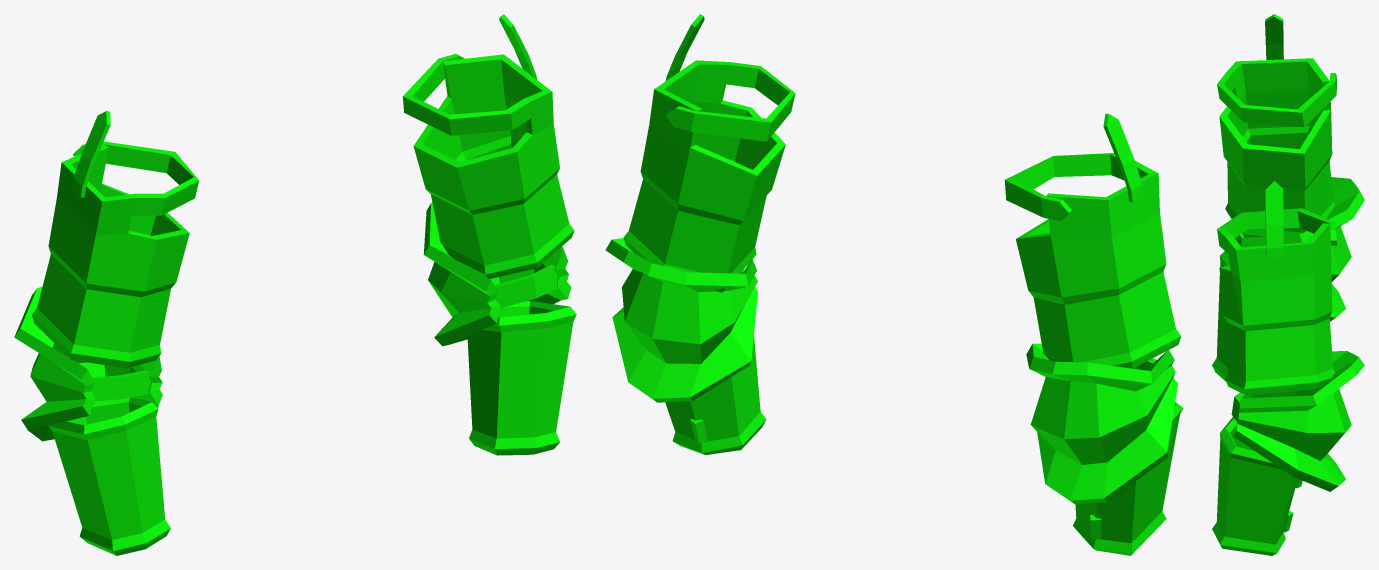
Rendered from SM_Armor_Arm_B_Hanging_Fantasy.fbx.
The picture shows the model from 3 angles, left to right: view 1: azimuth 30°, elevation 25°; view 2: azimuth 150°, elevation 25°; view 3: azimuth 270°, elevation 25°; orthographic projection. The views are drawn at different scales.
Visible parts, largest first — view 1: armor-arm-b-hanging-fantasy; view 2: armor-arm-b-hanging-fantasy; view 3: armor-arm-b-hanging-fantasy.
Boxes of the visible parts, x1,y1,x2,y2 form: armor-arm-b-hanging-fantasy: (14,14,576,555); armor-arm-b-hanging-fantasy: (605,14,1183,555); armor-arm-b-hanging-fantasy: (1212,14,1364,555).
Bounding box in the file's own units: 0.7321 × 0.5525 × 0.2089.
